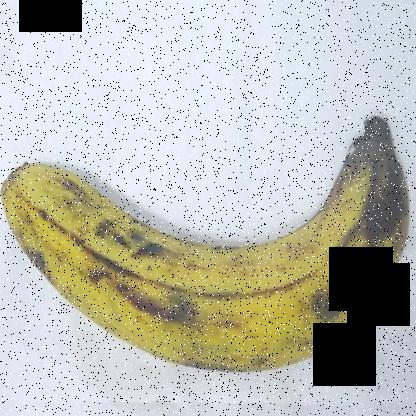overripe: (9, 97, 412, 395)
rotten: (341, 111, 415, 262)
